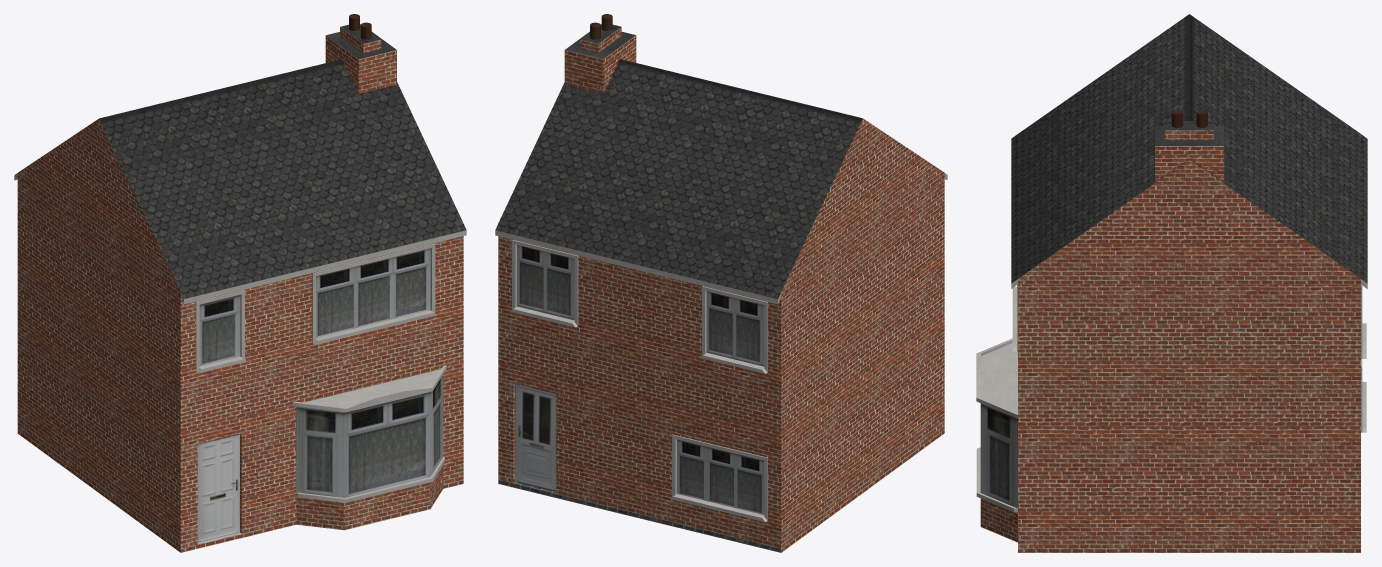
Rendered from terraced1am.FBX.
3 renders of one model, left to right at view 1: azimuth 30°, elevation 25°; view 2: azimuth 150°, elevation 25°; view 3: azimuth 270°, elevation 25°, orthographic. The views are drawn at different scales.
Parts seen in each view (by area): view 1: Box001; view 2: Box001; view 3: Box001.
Boxes of the visible parts, left/top/right/bottom form: Box001: left=14, top=14, right=466, bottom=552; Box001: left=495, top=14, right=947, bottom=552; Box001: left=976, top=14, right=1367, bottom=552.
Size of the model in its own units: 800 by 1105 by 913.
